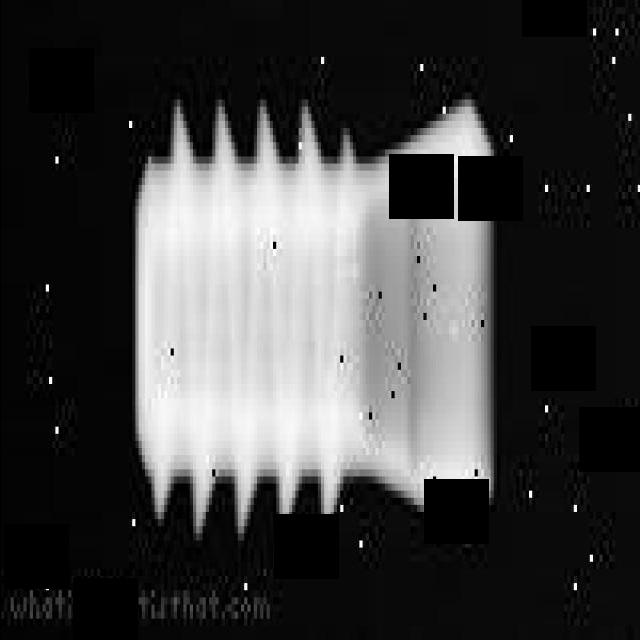Root canal filling: (131, 92, 493, 540)
